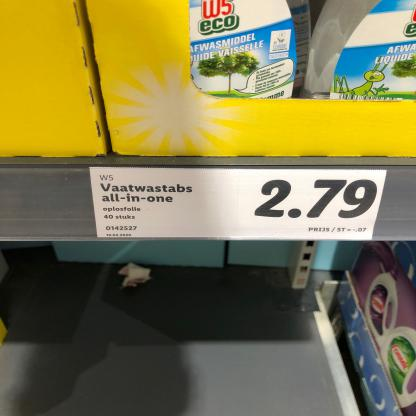prtg: (90, 169, 388, 242)
